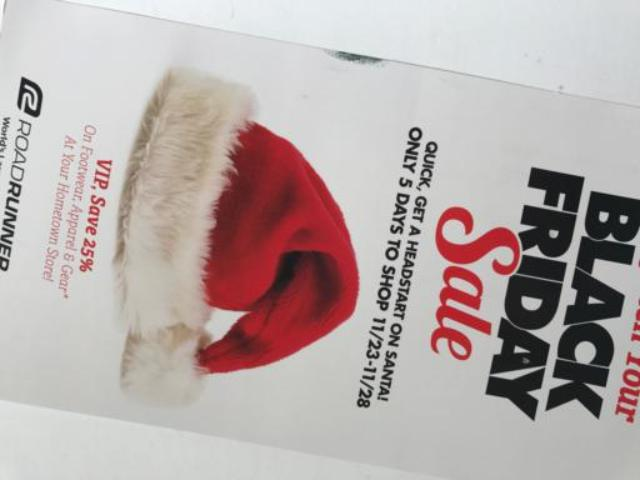cardboard paper: (0, 1, 639, 476)
